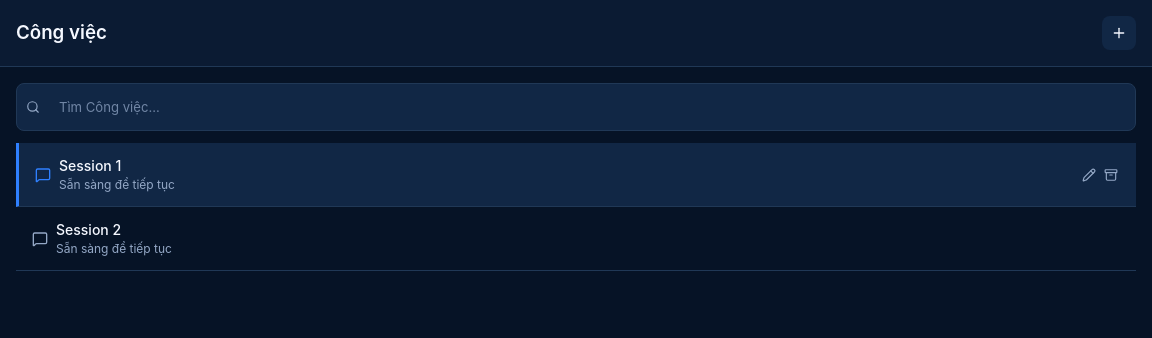
SessionList › đổi tên phiên
The width and height of the screenshot is (1152, 338).
Step 1. Click the button titled "Đổi tên Công việc" → click(1089, 175), box [1079,166,1098,184]
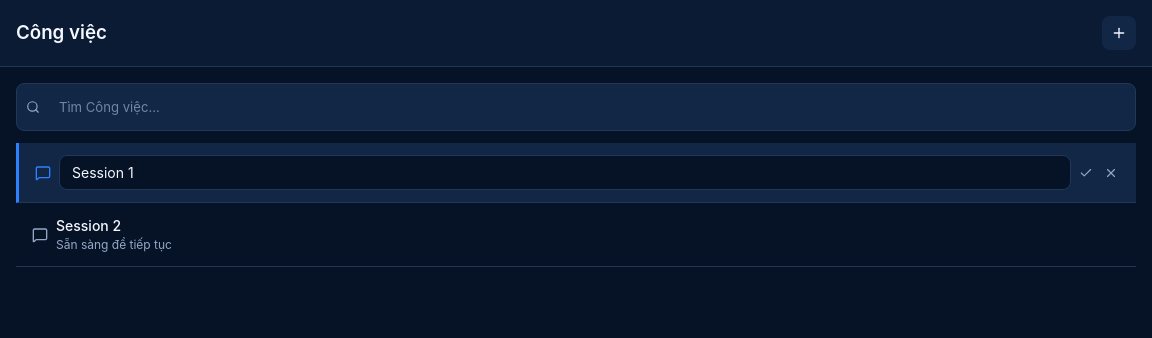
Step 2. Replace the text in the field named "Tên Công việc mới" with "Tên mới" → (565, 173), box [59,155,1071,190]
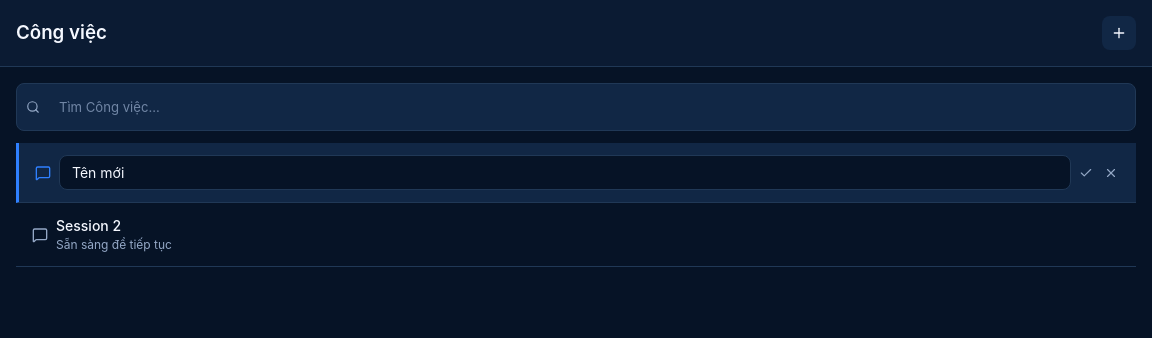
Step 3. Click the button titled "Lưu tên Công việc" → click(1086, 173), box [1077,164,1096,182]
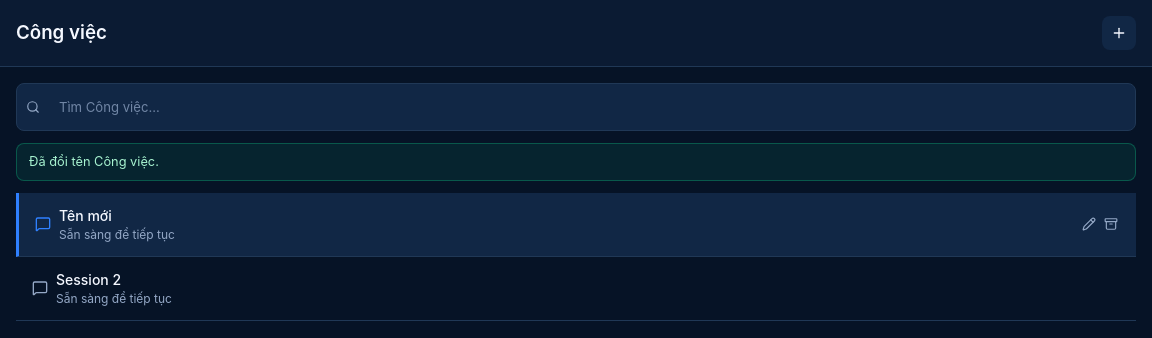
Check: the text "Tên mới" is shown, box [59,205,112,226]
